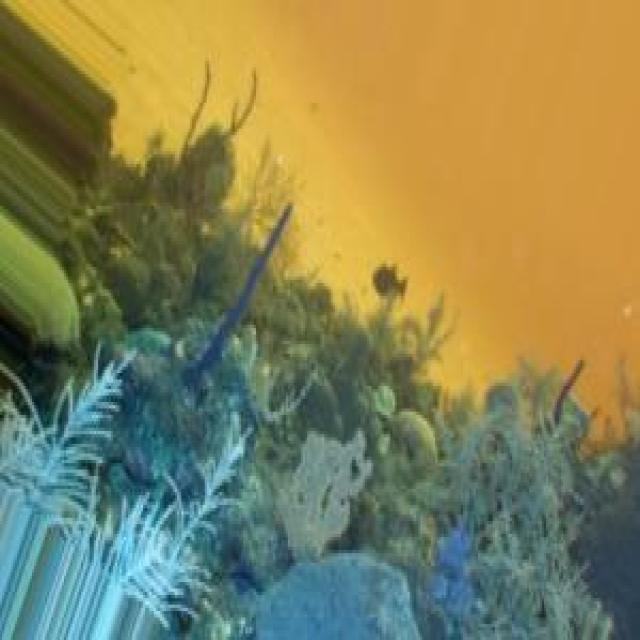Bleached: (39, 329, 253, 625), (259, 429, 379, 561)
Healthy: (1, 130, 640, 640), (193, 210, 291, 387)
